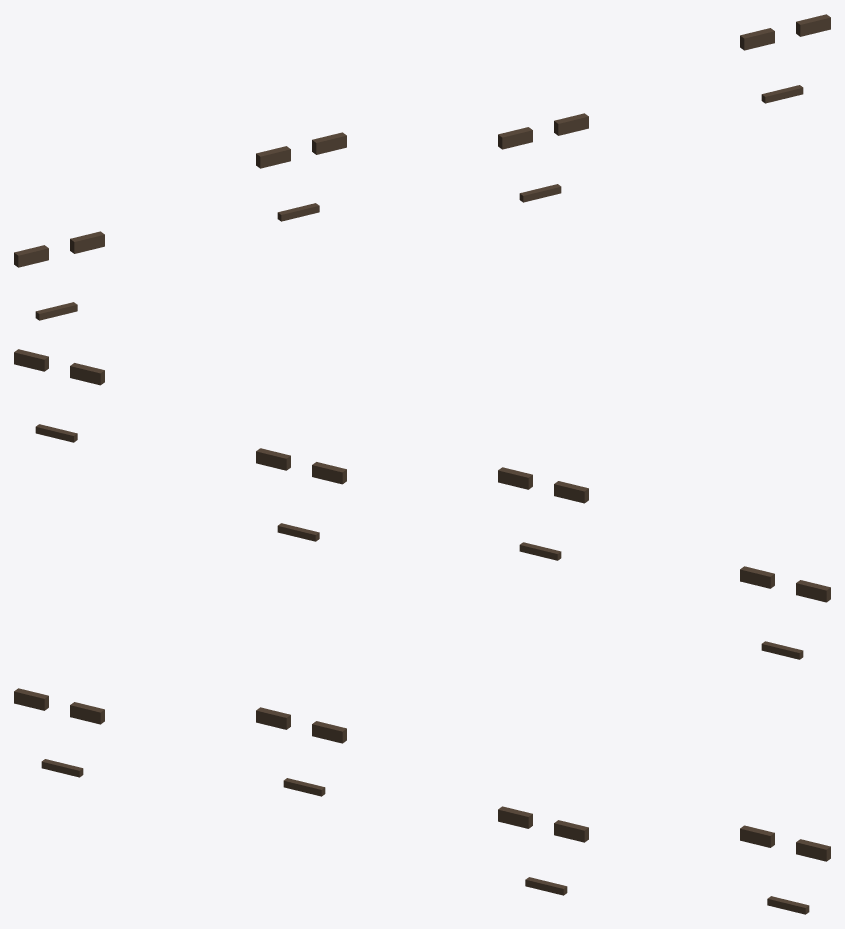
Rendered from HokageFaceShadows.fbx.
3 renders of one model, top to bottom at view 1: azimuth 30°, elevation 25°; view 2: azimuth 150°, elevation 25°; view 3: azimuth 330°, elevation 25°, orthographic.
Visible parts, largest first — view 1: Eye0_-2.001; view 2: Eye0_-2.001; view 3: Eye0_-2.001.
Part boxes in pixels (x1=…): Eye0_-2.001: x1=14, y1=14, x2=830, y2=320; Eye0_-2.001: x1=14, y1=349, x2=830, y2=659; Eye0_-2.001: x1=14, y1=688, x2=830, y2=914.
Bounding box in the file's own units: 6380 × 850 × 95.
